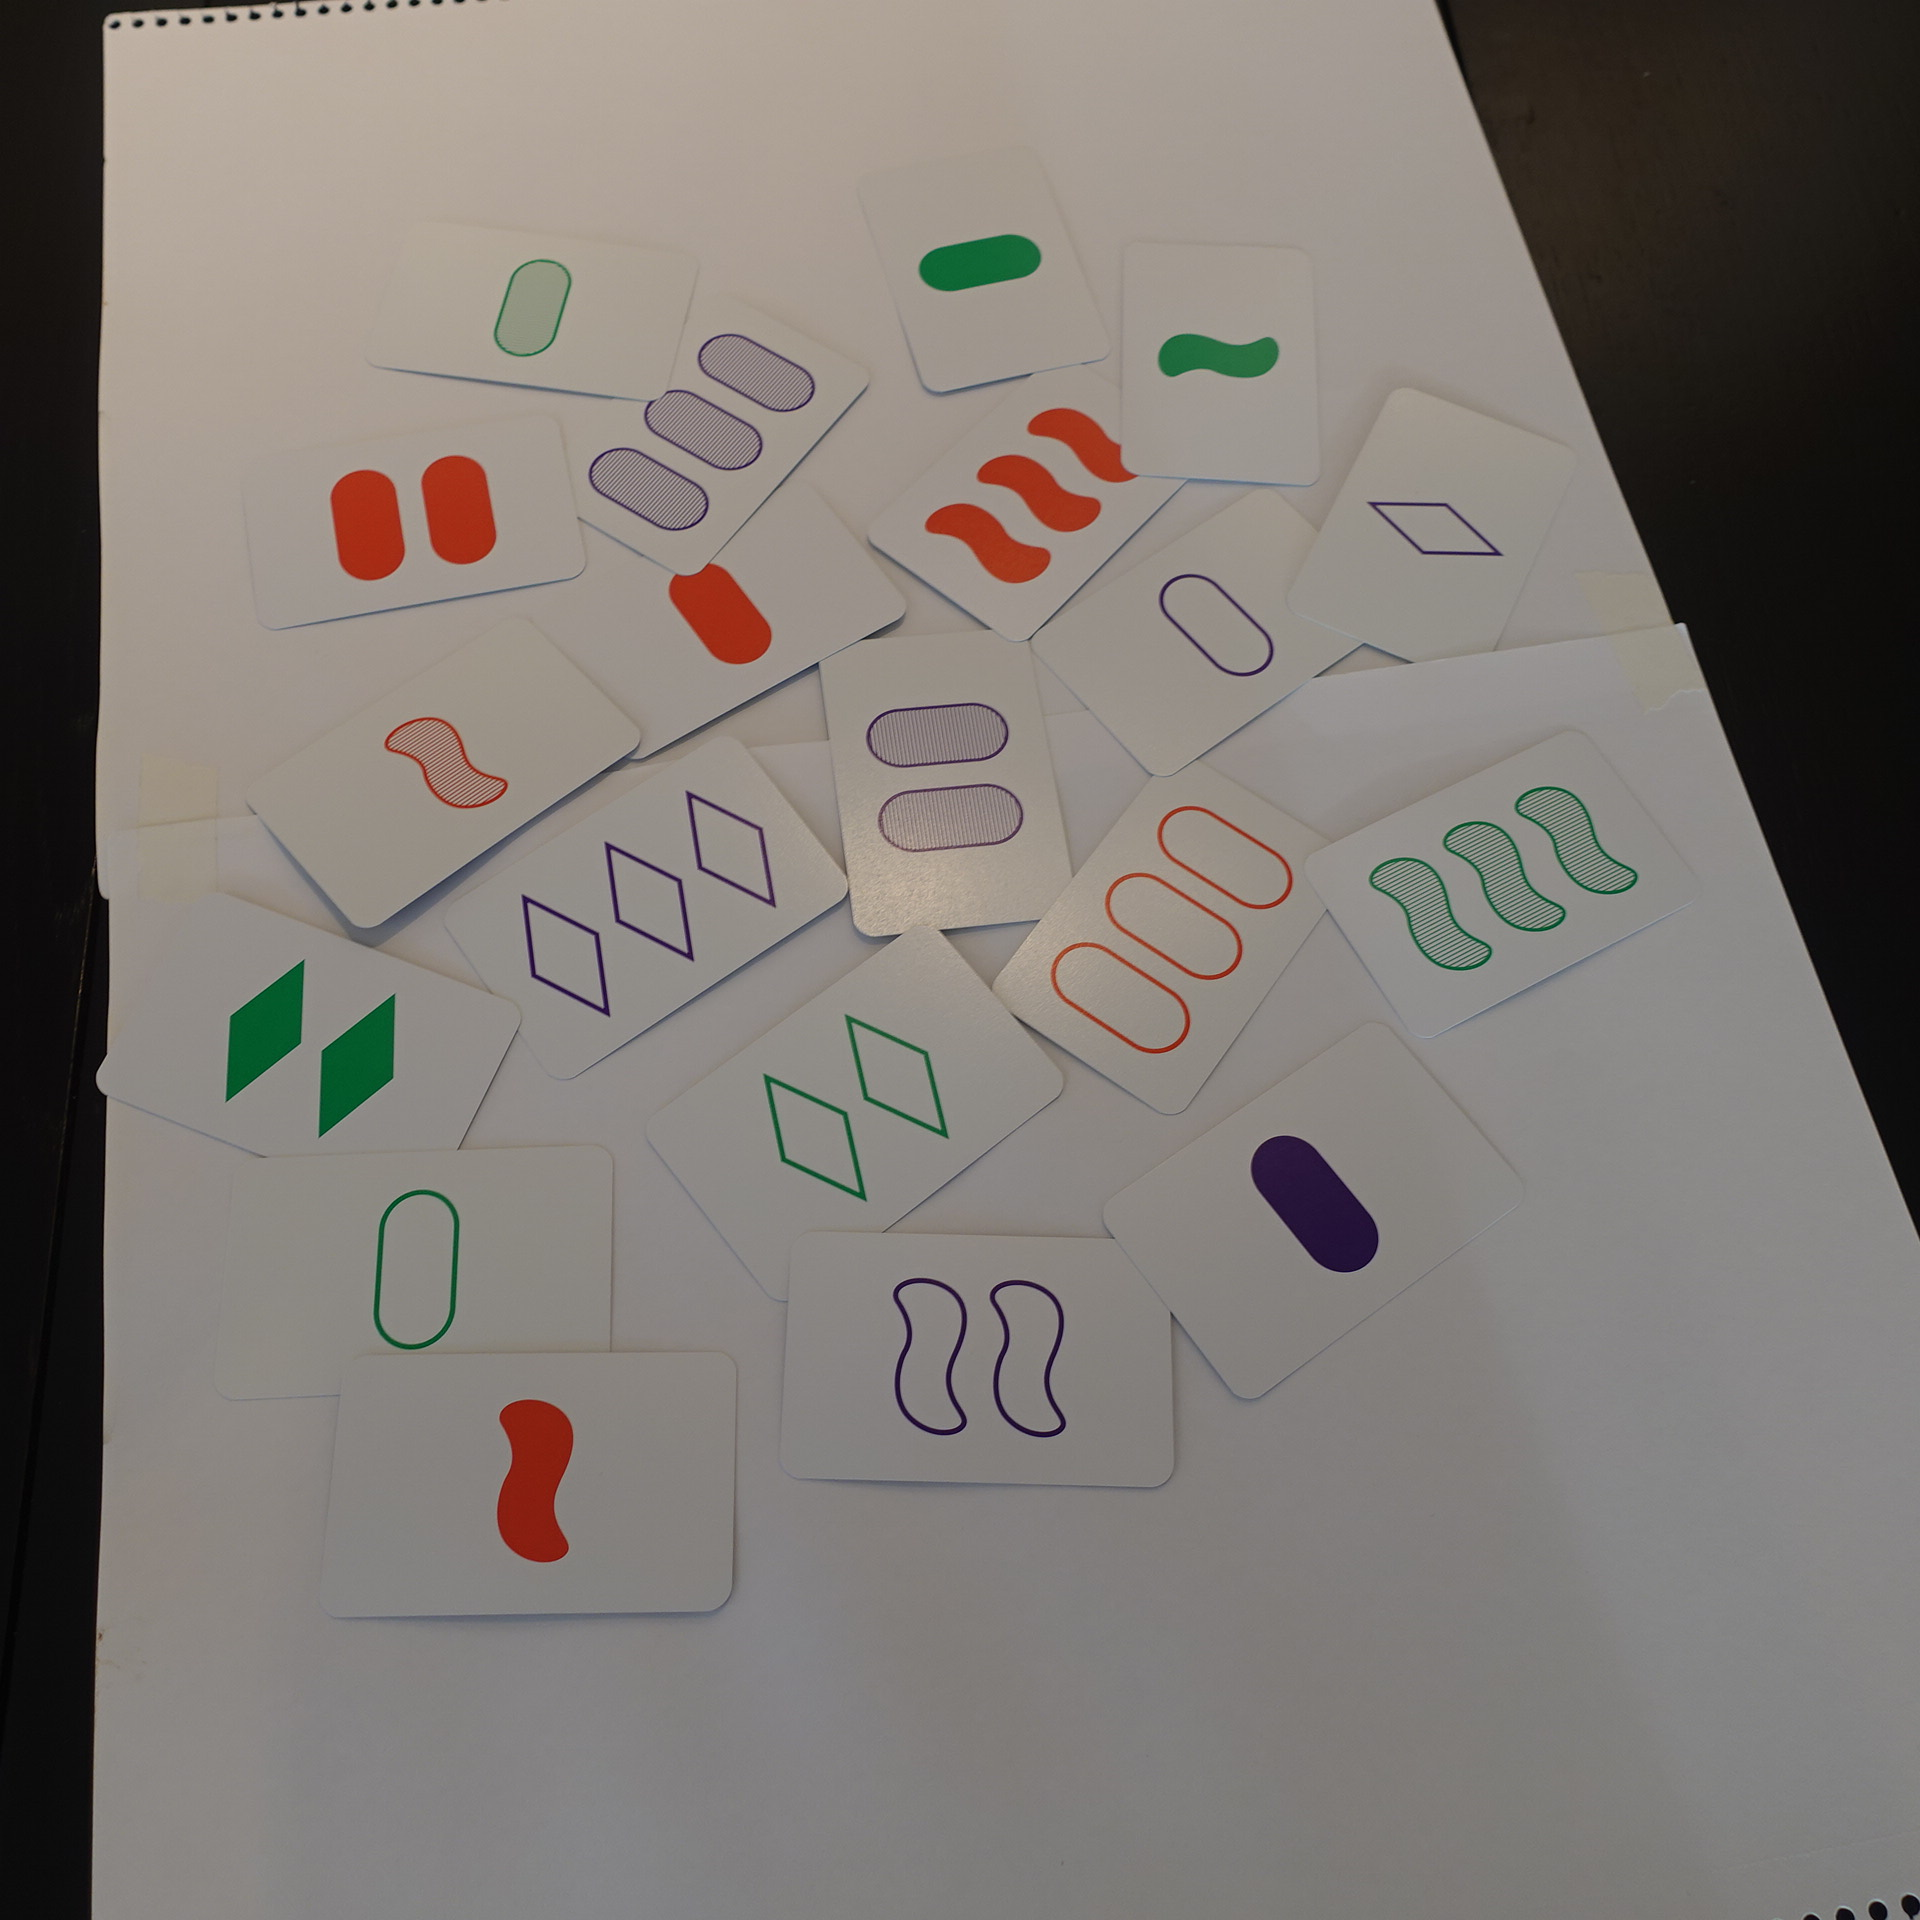c-1-f-o-g: (858, 144, 1106, 394)
c-1-f-o-p: (1109, 1027, 1523, 1393)
c-1-f-o-r: (536, 475, 907, 754)
c-1-f-s-g: (1113, 243, 1324, 487)
c-1-f-s-r: (324, 1357, 737, 1618)
c-1-h-o-g: (366, 222, 710, 406)
c-1-h-s-r: (264, 614, 638, 921)
c-1-u-d-p: (1294, 385, 1584, 682)
c-1-u-o-g: (230, 1162, 612, 1398)
c-1-u-o-p: (1029, 487, 1393, 774)
c-2-f-d-g: (95, 879, 519, 1199)
c-2-f-o-r: (237, 408, 584, 629)
c-2-h-o-p: (818, 635, 1081, 932)
c-2-u-d-g: (642, 920, 1058, 1294)
c-2-u-s-p: (775, 1231, 1189, 1493)
c-3-f-s-r: (867, 353, 1211, 640)
c-3-h-o-p: (547, 292, 881, 570)
c-3-h-s-g: (1303, 726, 1704, 1043)
c-3-u-d-p: (447, 737, 847, 1073)
c-3-u-o-r: (990, 760, 1347, 1120)
